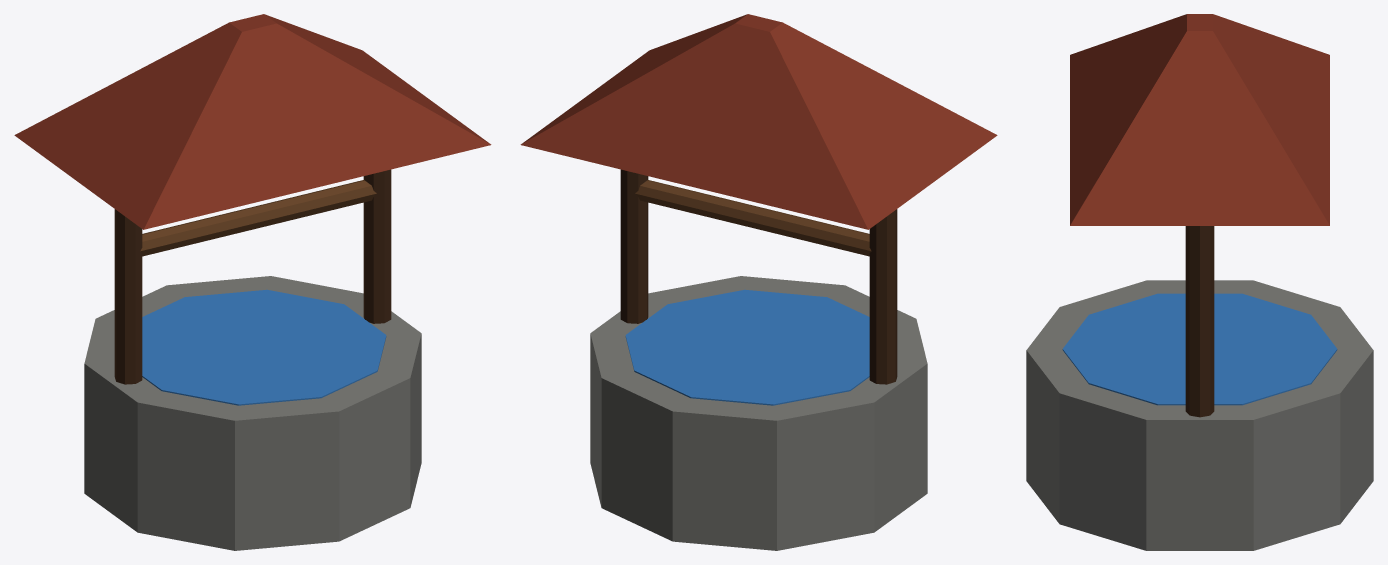
File: SM_GZ_well.fbx
3 views of the same model, side by side, from view 1: azimuth 30°, elevation 25°; view 2: azimuth 150°, elevation 25°; view 3: azimuth 270°, elevation 25° (orthographic).
Visible parts, largest first — view 1: SM_GZ_well; view 2: SM_GZ_well; view 3: SM_GZ_well.
Part boxes in pixels (x1,y1,x2,y2): SM_GZ_well: (14,14,491,550); SM_GZ_well: (520,14,997,550); SM_GZ_well: (1026,14,1373,550).
Bounding box in the file's own units: 280 × 350 × 240.
